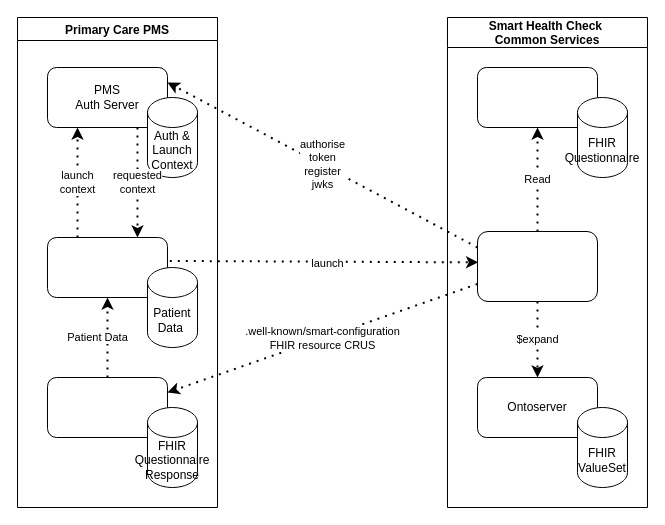
Some shapes in this 665 by 525 pixel diagram are drawn without their labels. The shapes that lost their labels are listed below. From the top down, each one's centre as x and y in pixels, then its label:
[537,97]: Smart Forms Server
[107,267]: PMS App
[537,266]: Smart Health Check App
[107,407]: PMS FHIR API
